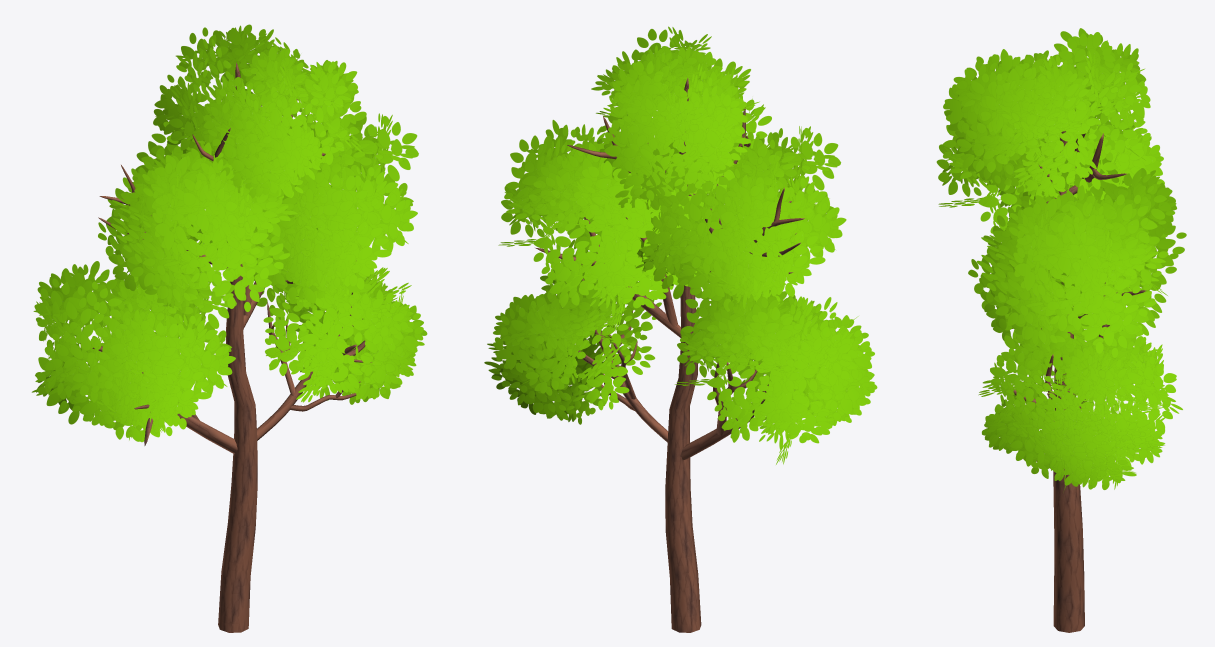
The model's file is tree1.glb.
3 renders of one model, left to right at view 1: azimuth 30°, elevation 25°; view 2: azimuth 150°, elevation 25°; view 3: azimuth 270°, elevation 25°, orthographic. The views are drawn at different scales.
Parts seen in each view (by area): view 1: NormalTree_2; view 2: NormalTree_2; view 3: NormalTree_2.
Boxes of the visible parts, x1,y1,x2,y2 form: NormalTree_2: (31,24,427,632); NormalTree_2: (484,26,877,632); NormalTree_2: (936,28,1186,632).
Size of the model in its own units: 455 by 656 by 279.
Materials: 2 (2 with a texture image).
